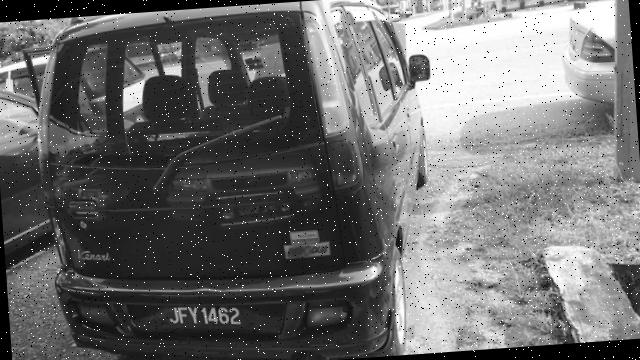License_Plate: (146, 294, 266, 341)
car: (25, 1, 460, 360)
